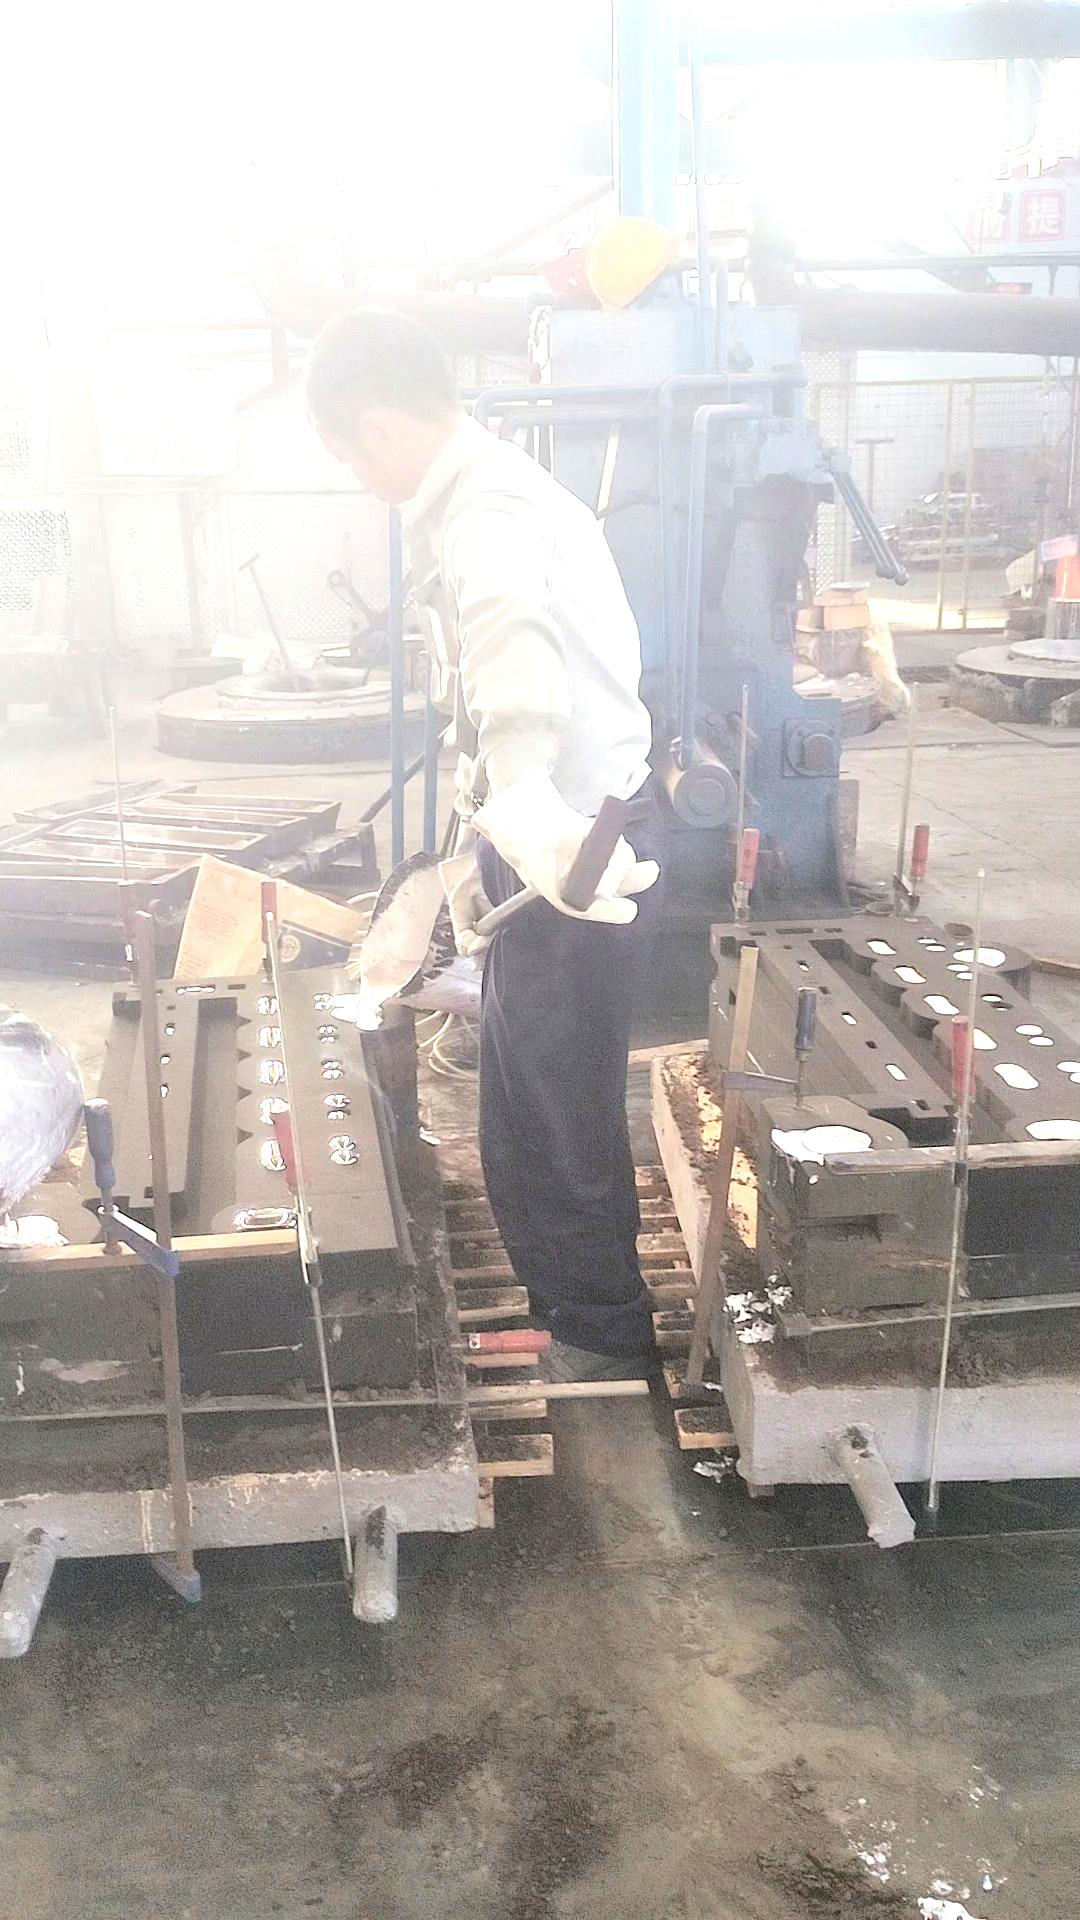pouring hole: (793, 1121, 877, 1160), (326, 986, 392, 1019), (1, 1213, 57, 1251), (952, 944, 1011, 968)
